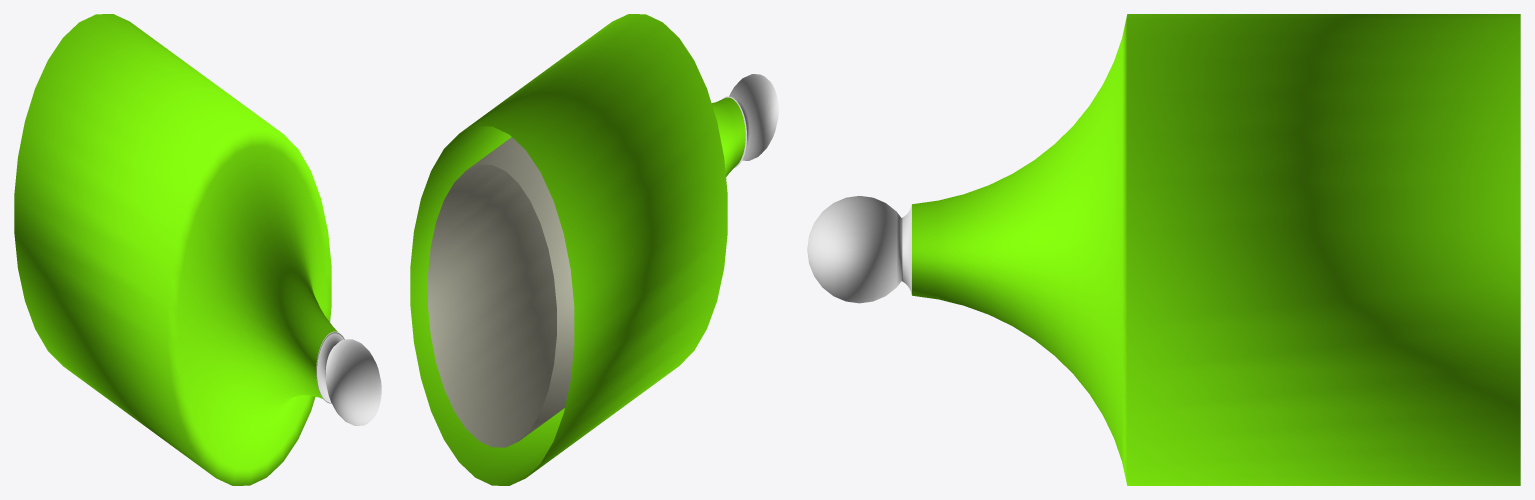
Rendered from model_scale.obj.
3 views of the same model, side by side, from view 1: azimuth 30°, elevation 25°; view 2: azimuth 150°, elevation 25°; view 3: azimuth 270°, elevation 25° (orthographic). The views are drawn at different scales.
Parts seen in each view (by area): view 1: mesh1_mesh1-geometry, mesh3_mesh3-geometry; view 2: mesh1_mesh1-geometry, mesh2_mesh2-geometry, mesh3_mesh3-geometry; view 3: mesh1_mesh1-geometry, mesh3_mesh3-geometry.
Part boxes in pixels (x1,y1,x2,y2): mesh1_mesh1-geometry: [14, 14, 337, 485]; mesh3_mesh3-geometry: [316, 331, 381, 425]; mesh1_mesh1-geometry: [410, 14, 745, 485]; mesh2_mesh2-geometry: [428, 137, 574, 447]; mesh3_mesh3-geometry: [722, 74, 778, 167]; mesh1_mesh1-geometry: [912, 14, 1520, 485]; mesh3_mesh3-geometry: [807, 196, 911, 303].
Bounding box in the file's own units: 0.0475 × 0.0994 × 0.1395.
